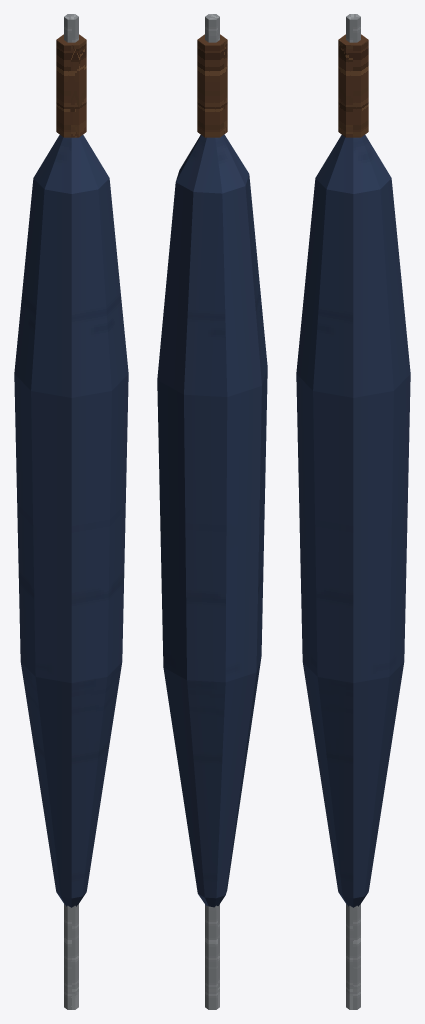
File: umbrella_closed.glb
The picture shows the model from 3 angles, left to right: view 1: azimuth 90°, elevation 25°; view 2: azimuth 150°, elevation 25°; view 3: azimuth 270°, elevation 25°; orthographic projection.
Parts seen in each view (by area): view 1: p; view 2: p; view 3: p.
Part boxes in pixels (x1=…): p: x1=14, y1=14, x2=128, y2=1009; p: x1=157, y1=14, x2=267, y2=1009; p: x1=296, y1=14, x2=410, y2=1009.
Size of the model in its own units: 0.09 by 0.86 by 0.09.
3 materials, 3 textured.
